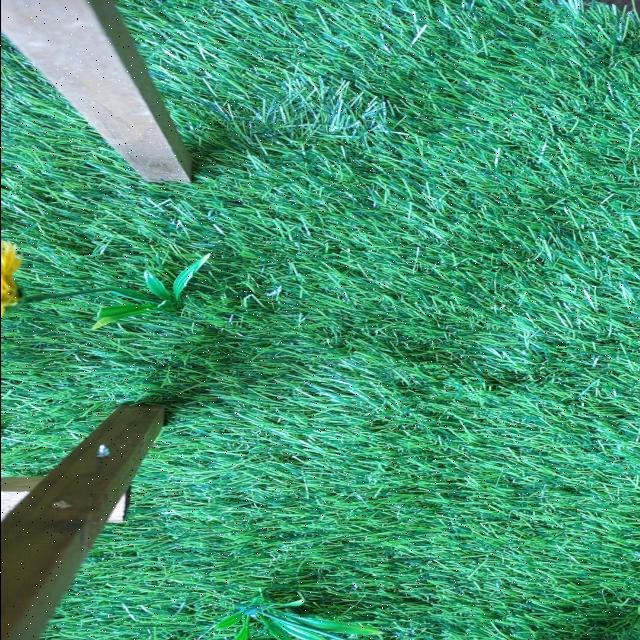base: (90, 252, 212, 330), (208, 599, 378, 640)
flower: (1, 244, 27, 324)
